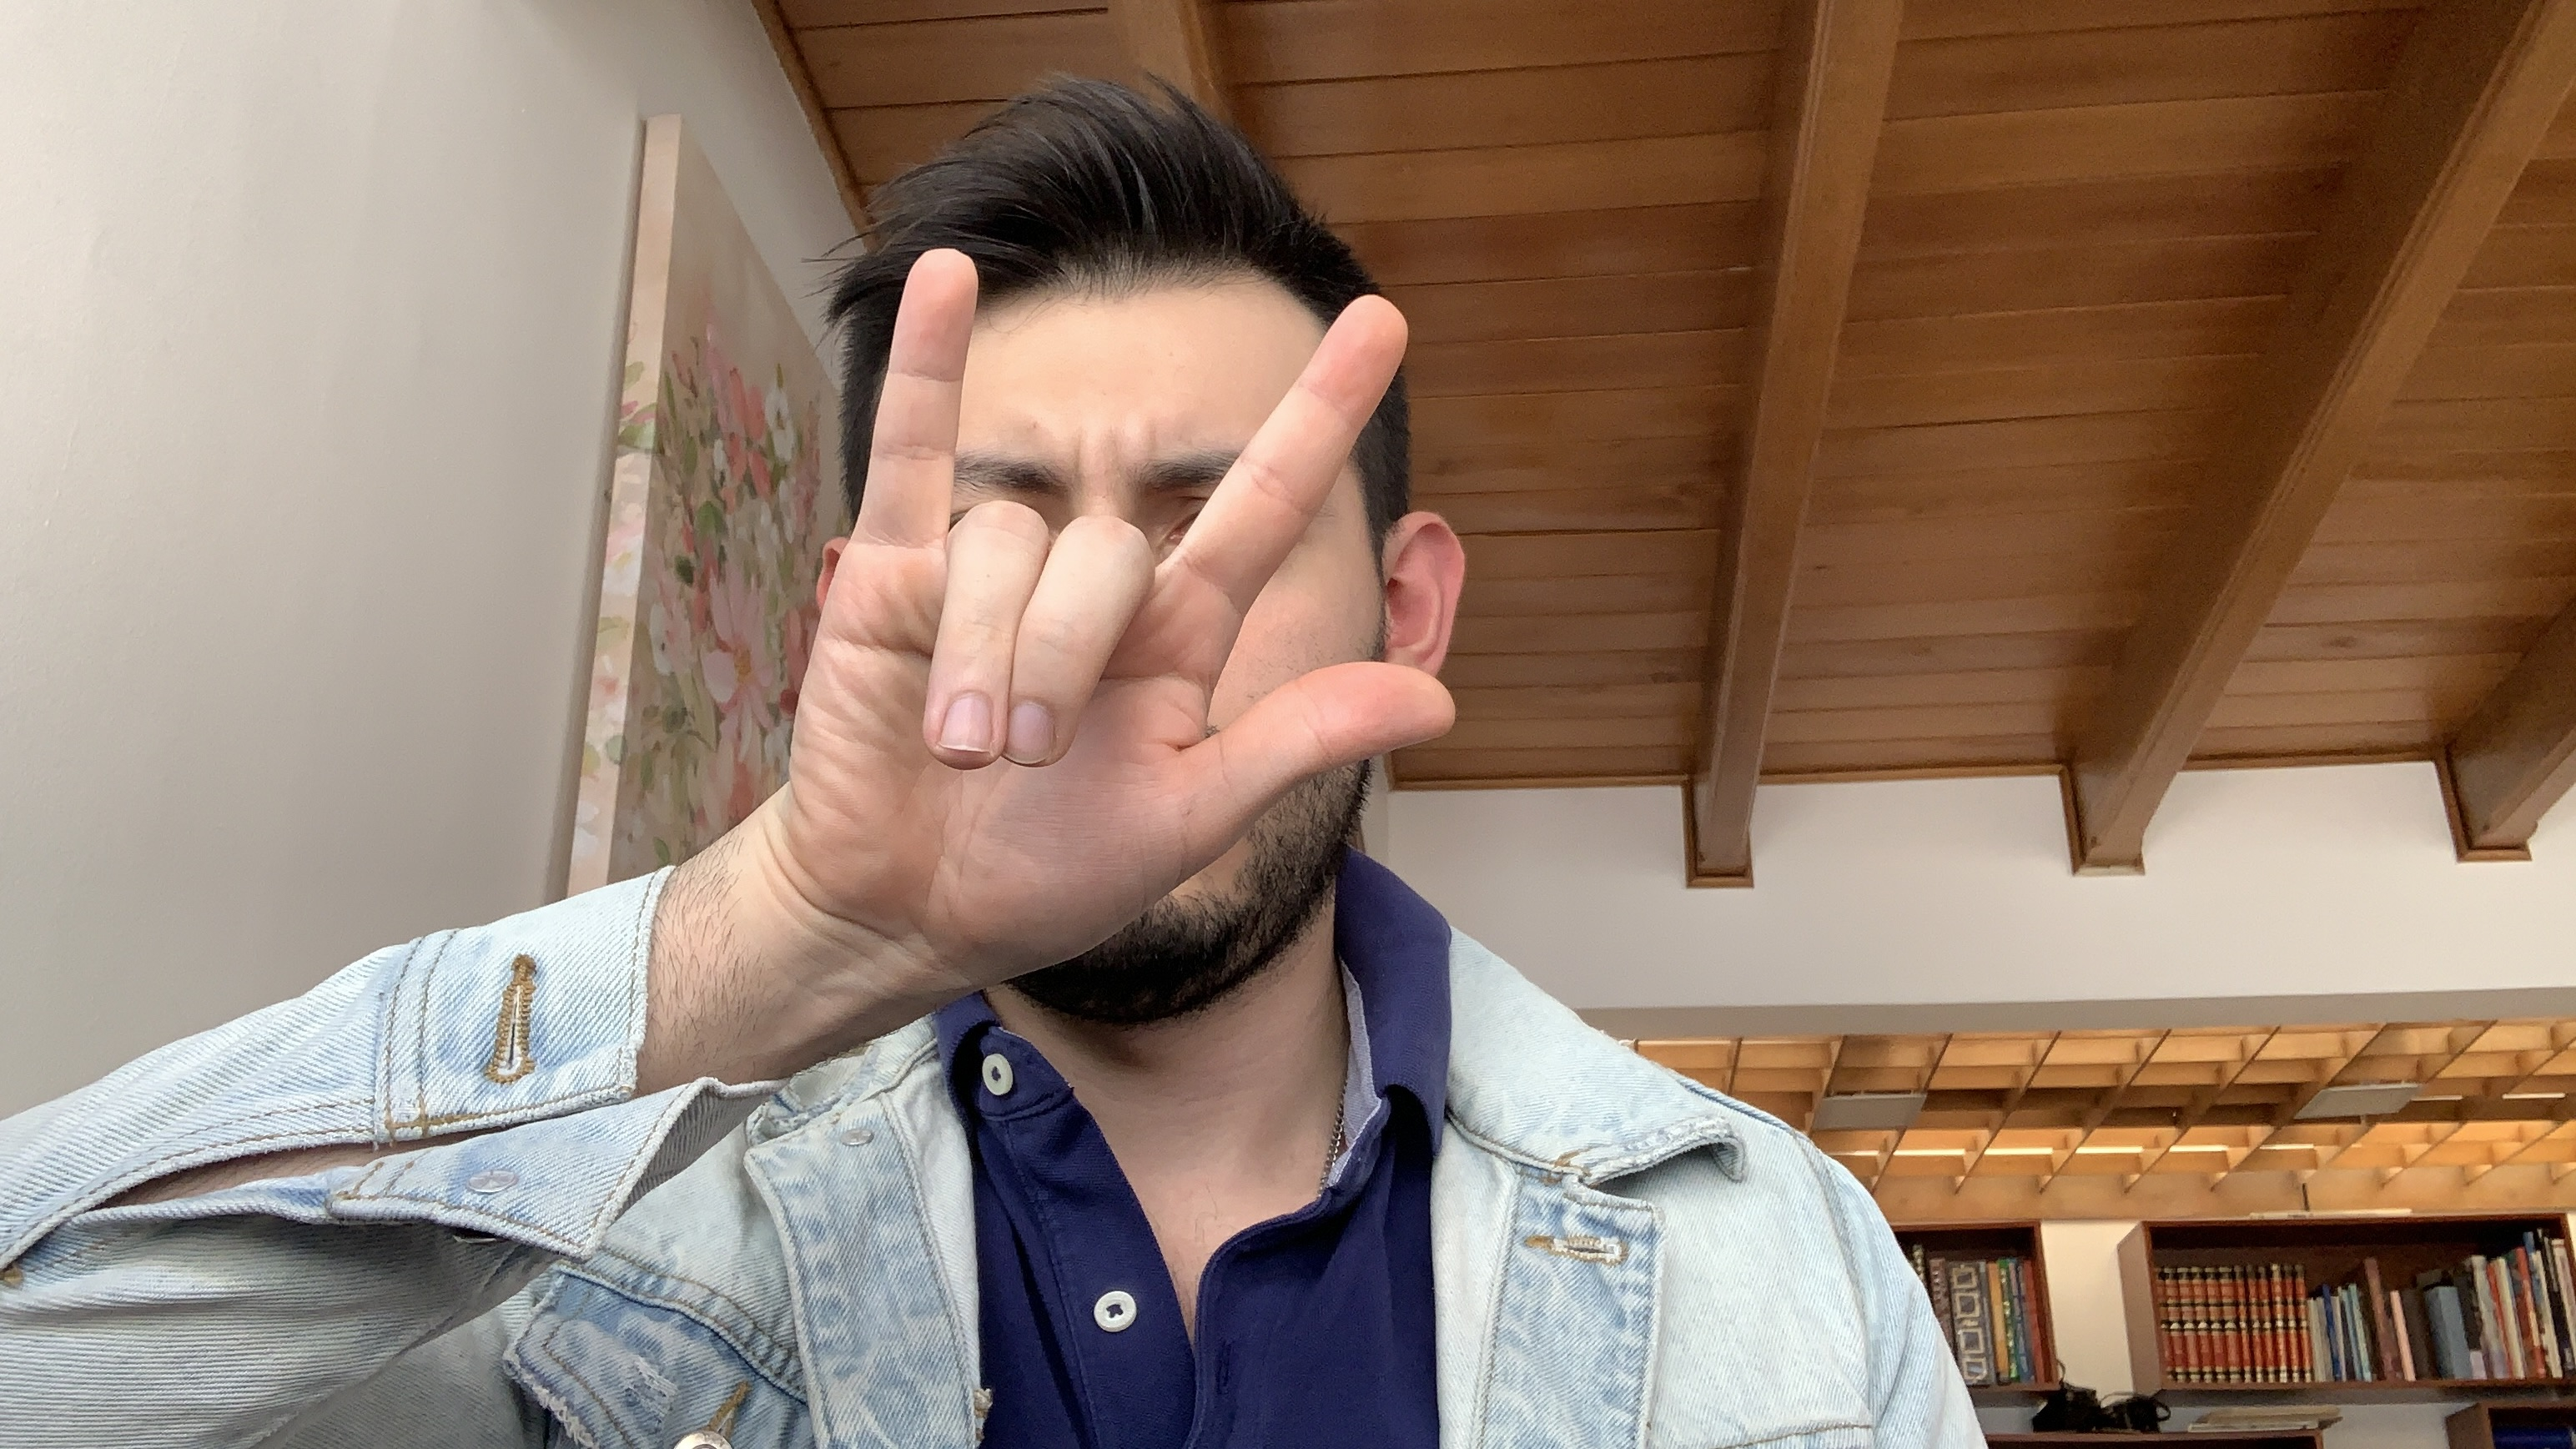I Love You: (773, 241, 1479, 1010)
